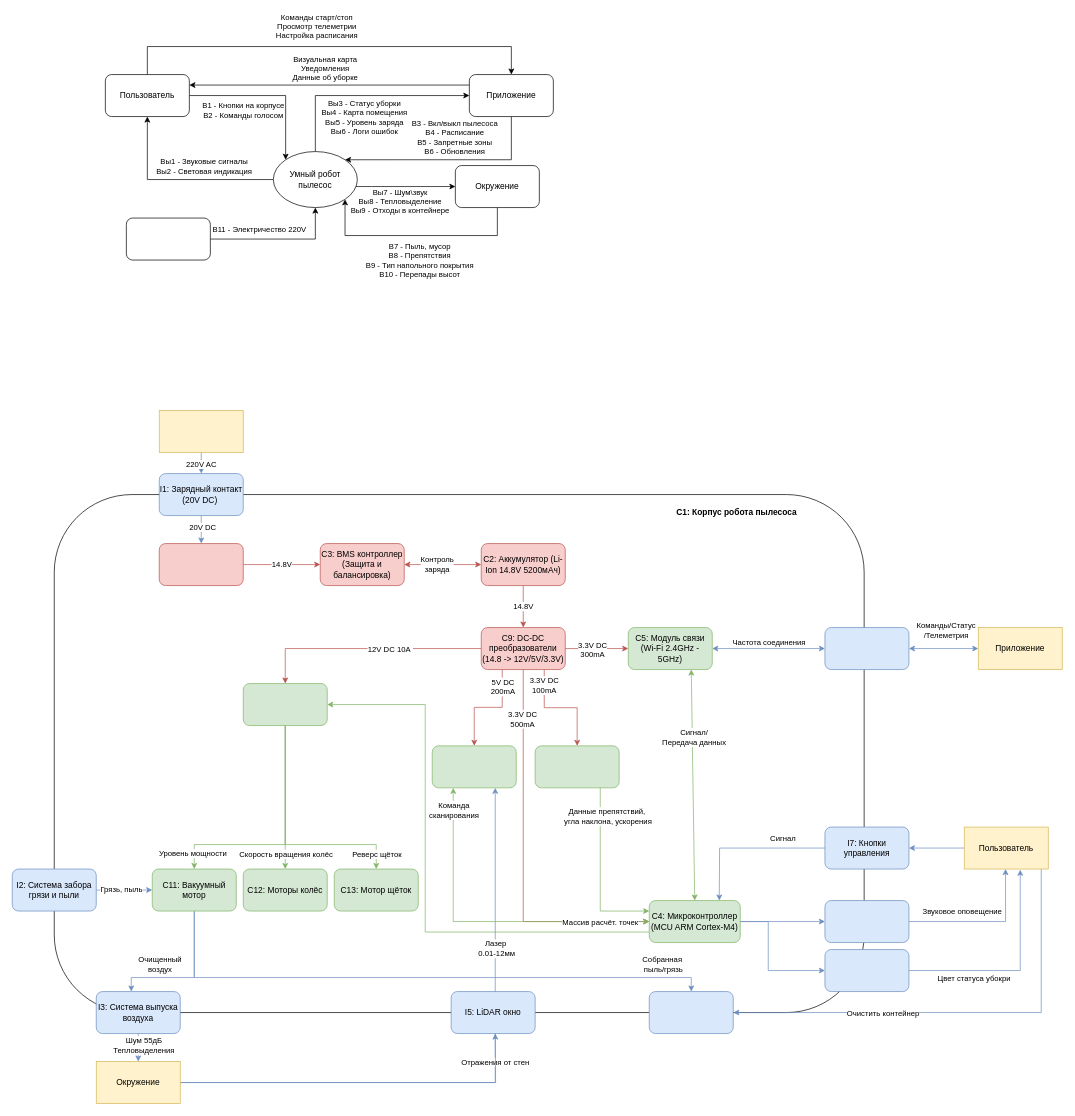
Some shapes in this 1075 by 1116 pixel diagram are drawn without their labels. The shapes that lost their labels are listed below. From the top down, each one's centre as x and y in pixels, then its label:
At pixel 168 238: "Источник энергии".
At pixel 201 431: "Зарядная станция".
At pixel 201 564: "С8: Блок питания (20V DC -> 14.8 зарядка)".
At pixel 866 648: "I6: WIFI Антенна".
At pixel 285 704: "С10: Драйвер моторов".
At pixel 474 766: "С6: LiDAR модуль (лазерный сканер)".
At pixel 576 766: "С7: Датчики (гироскоп, акселерометр)".
At pixel 866 921: "I8: Динамик".
At pixel 866 970: "I9: LED Индикатор RGB".
At pixel 691 1012: "I4: Контейнер для пыли".
